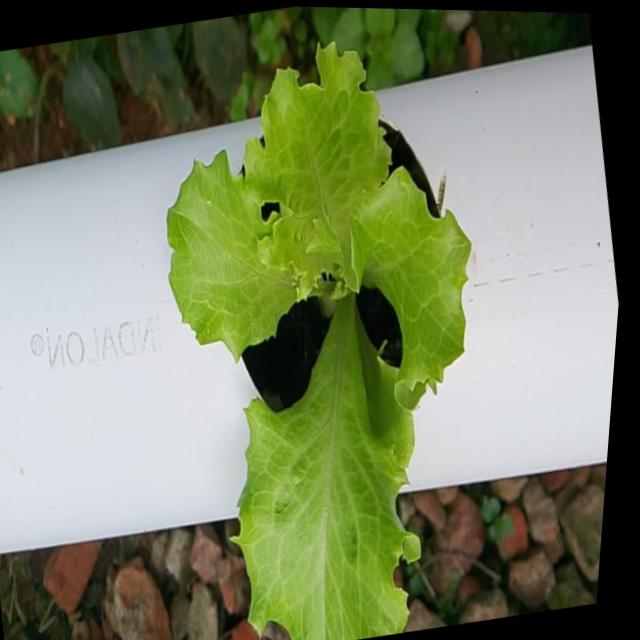Baby: (172, 38, 470, 640)
